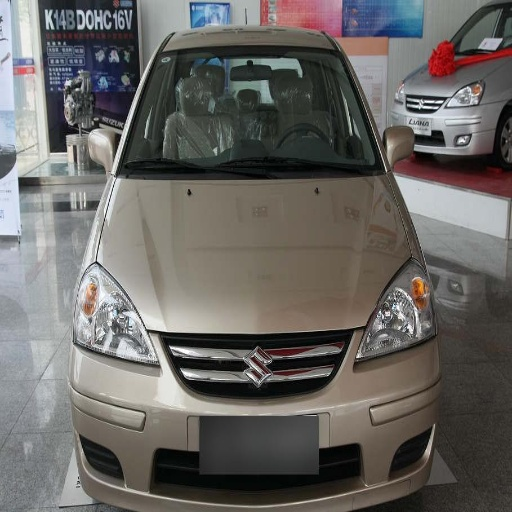front_bumper: (71, 327, 434, 511)
front_right_light: (74, 263, 158, 366)
hood: (98, 174, 409, 334)
